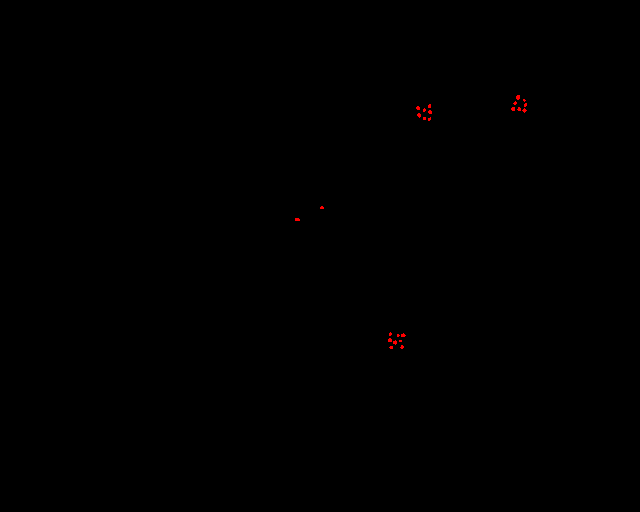Target: (522, 108, 527, 113), (516, 95, 520, 100), (417, 113, 421, 118), (401, 333, 406, 337), (393, 340, 397, 345), (513, 101, 517, 105), (416, 106, 420, 110), (511, 107, 515, 111), (517, 107, 521, 111), (428, 110, 432, 114), (388, 338, 392, 342), (400, 345, 404, 349), (295, 218, 300, 221), (524, 103, 527, 107), (428, 104, 431, 108), (423, 108, 426, 112), (428, 117, 431, 121), (320, 206, 324, 209), (389, 332, 392, 336), (389, 346, 393, 349), (523, 99, 526, 102), (423, 117, 426, 120), (397, 334, 400, 337), (399, 340, 402, 342)
